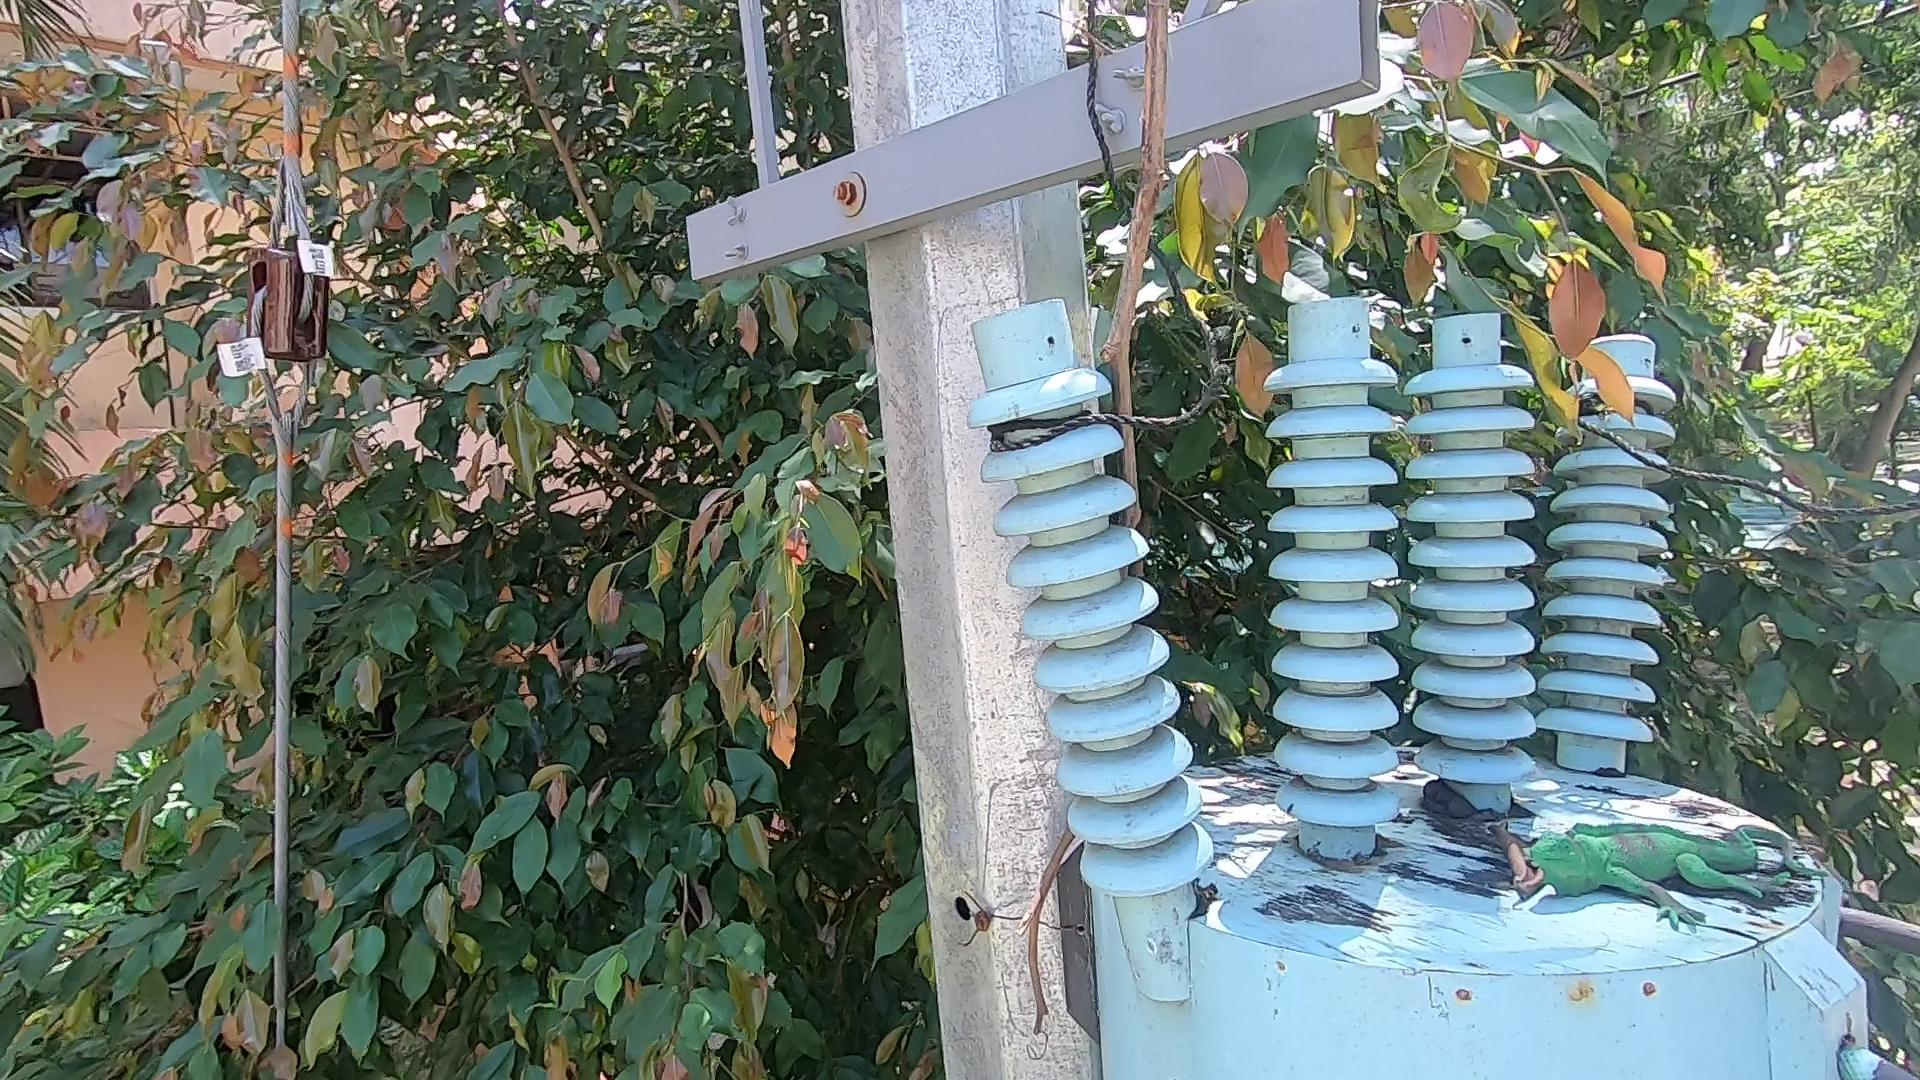branch with leaves: (1377, 232, 1676, 475)
leaf: (1485, 808, 1542, 905), (1414, 775, 1477, 823)
tree branch: (988, 1, 1176, 1033)
